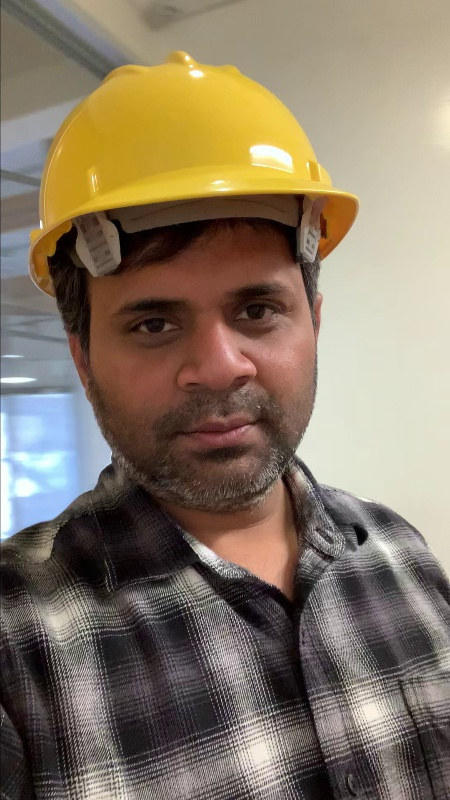helmet: (30, 46, 358, 198)
